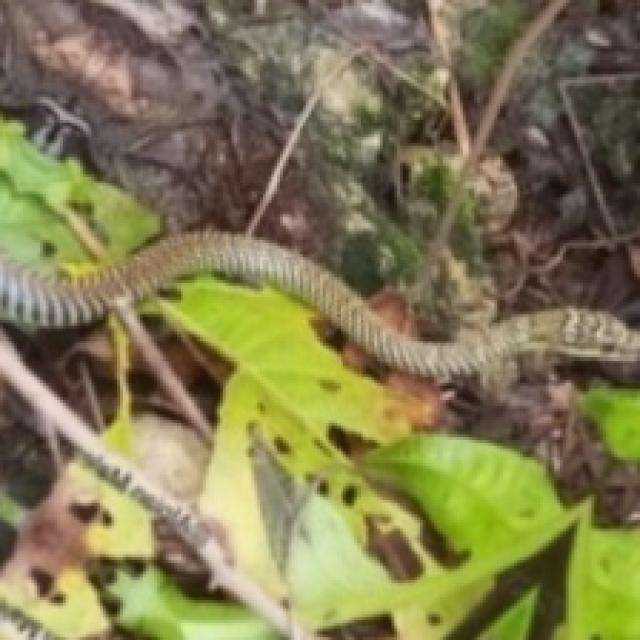paradise tree snake: (0, 231, 637, 377)
